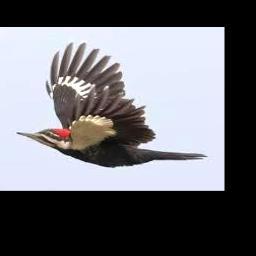Woodpecker: (15, 42, 207, 166)
